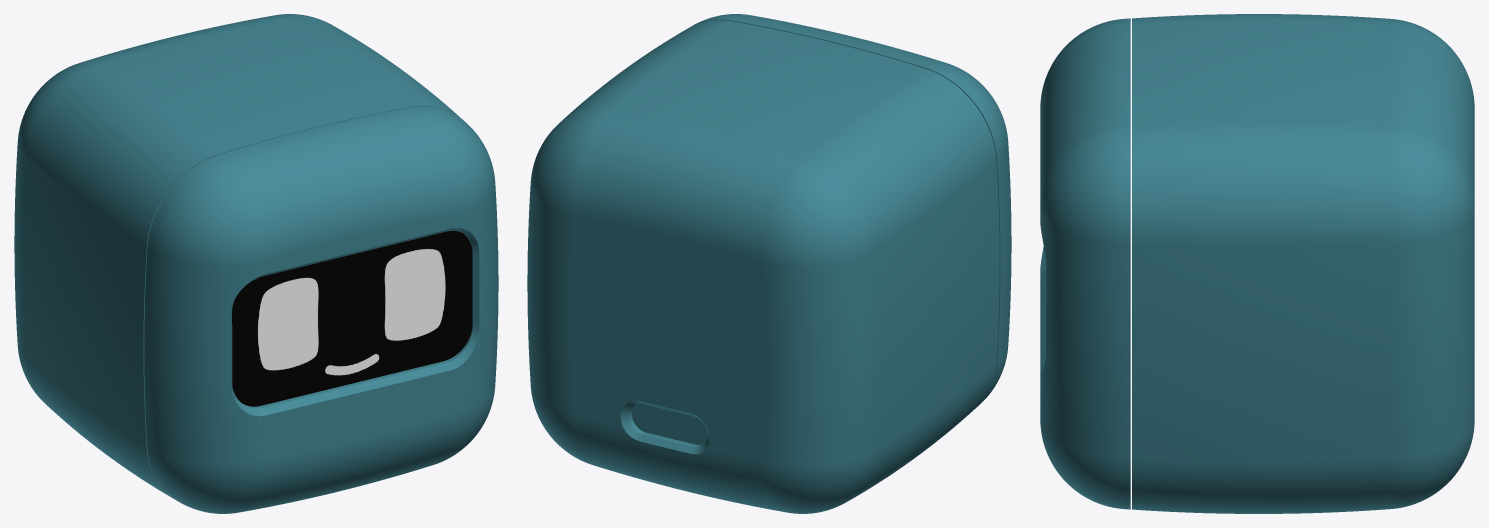
Rendered from chotu-transformed.glb.
The picture shows the model from 3 angles, left to right: view 1: azimuth 30°, elevation 25°; view 2: azimuth 150°, elevation 25°; view 3: azimuth 270°, elevation 25°; orthographic projection. The views are drawn at different scales.
Visible parts, largest first — view 1: Simple Assembly 2; view 2: Simple Assembly 2; view 3: Simple Assembly 2.
Part boxes in pixels (<box>): Simple Assembly 2: <box>14,14,498,513</box>; Simple Assembly 2: <box>527,14,1011,513</box>; Simple Assembly 2: <box>1040,14,1474,513</box>.
Size of the model in its own units: 47.99 by 47.99 by 48.16.
2 materials, 1 textured.
